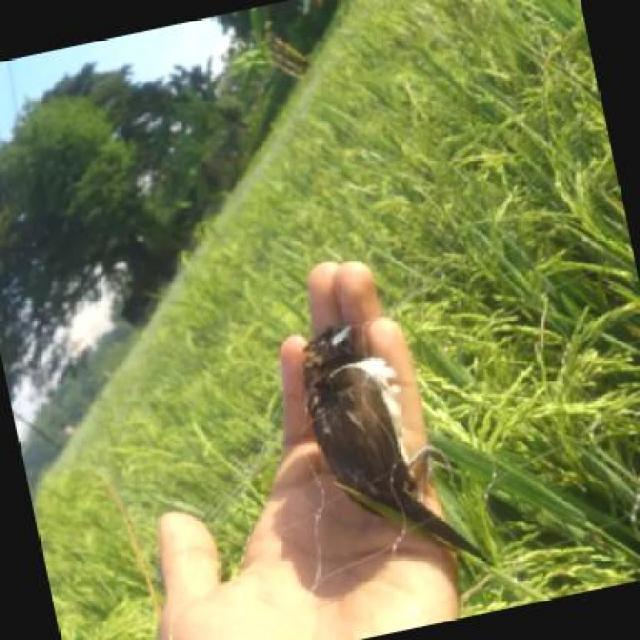Bird: (301, 318, 487, 562)
